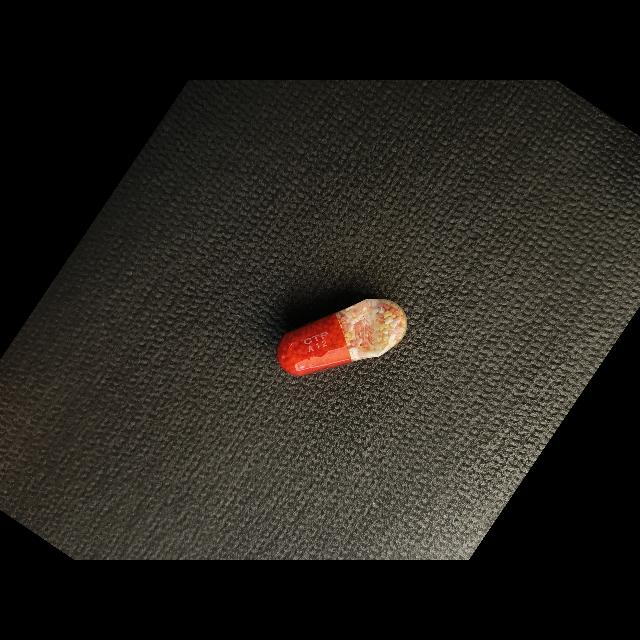Defective Capsule: (277, 299, 407, 376)
